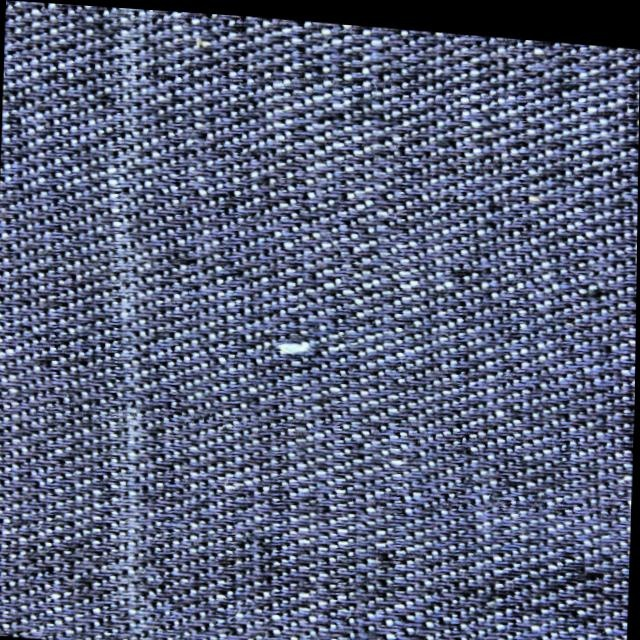Hole: (234, 313, 356, 383)
